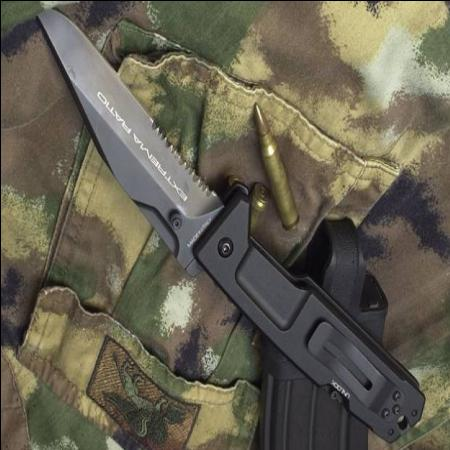long weapon: (32, 3, 225, 277)
